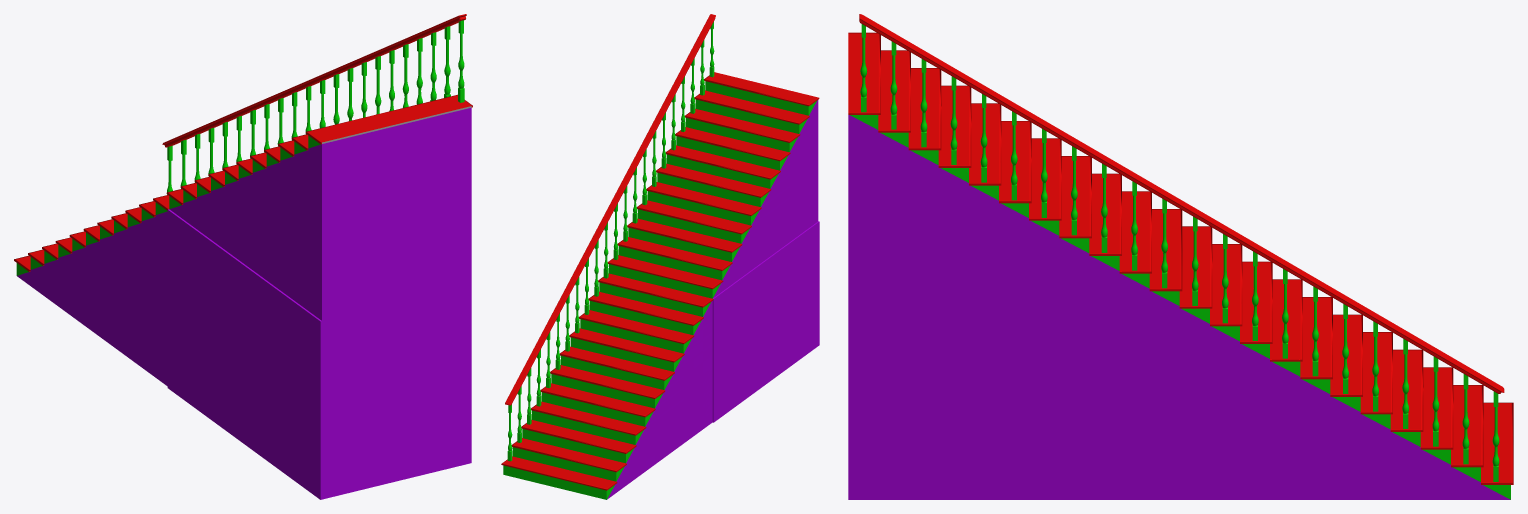
File: H_Stairs.fbx
The picture shows the model from 3 angles, left to right: view 1: azimuth 30°, elevation 25°; view 2: azimuth 150°, elevation 25°; view 3: azimuth 270°, elevation 25°; orthographic projection. The views are drawn at different scales.
Parts seen in each view (by area): view 1: H_Stairs; view 2: H_Stairs; view 3: H_Stairs.
Boxes of the visible parts, x1,y1,x2,y2 form: H_Stairs: (14,14,472,499); H_Stairs: (501,14,819,499); H_Stairs: (848,14,1513,499).
Size of the model in its own units: 148 by 412 by 515.
